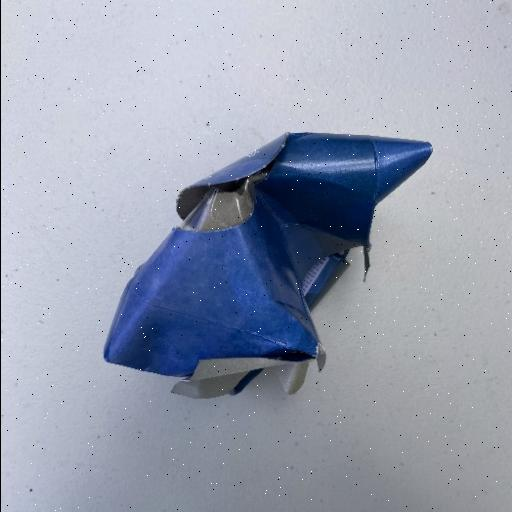Cardboard: (100, 128, 434, 402)
